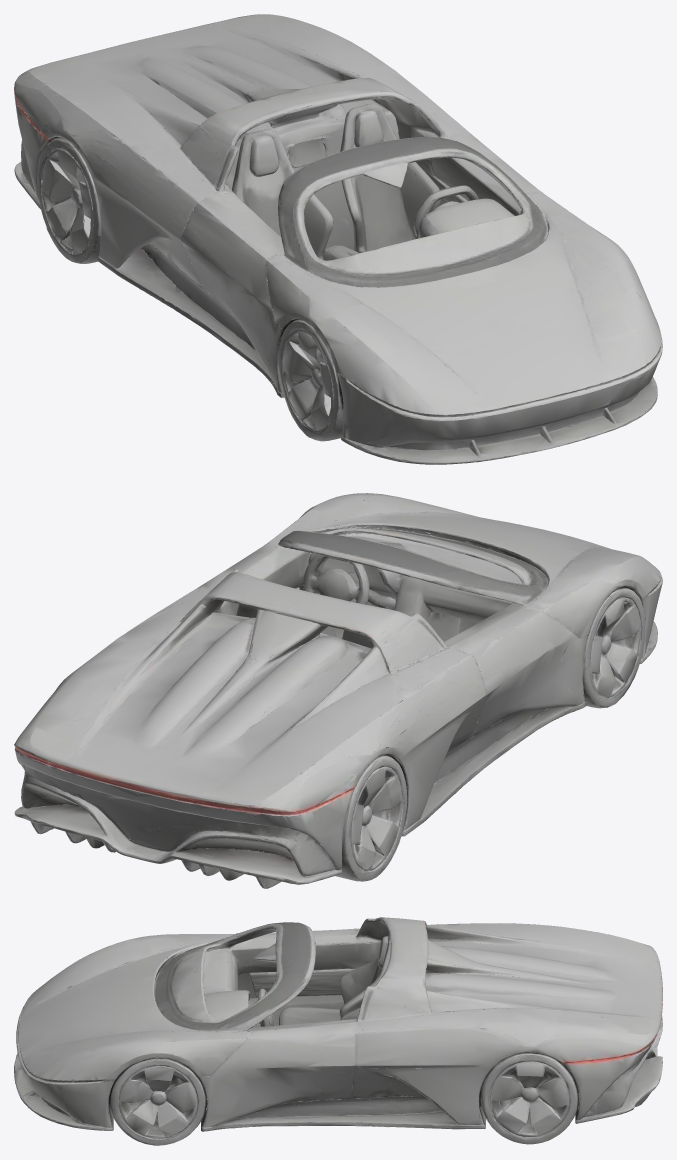
Rendered from roadster.glb.
3 views of the same model, one above another, from view 1: azimuth 30°, elevation 25°; view 2: azimuth 150°, elevation 25°; view 3: azimuth 270°, elevation 25° (orthographic). The views are drawn at different scales.
Visible parts, largest first — view 1: material; view 2: material; view 3: material.
Part boxes in pixels (x1,y1,x2,y2): material: (14, 14, 662, 464); material: (14, 493, 662, 888); material: (14, 917, 662, 1145).
Bounding box in the file's own units: 1.87 × 1.07 × 4.35.
1 material, 1 textured.
